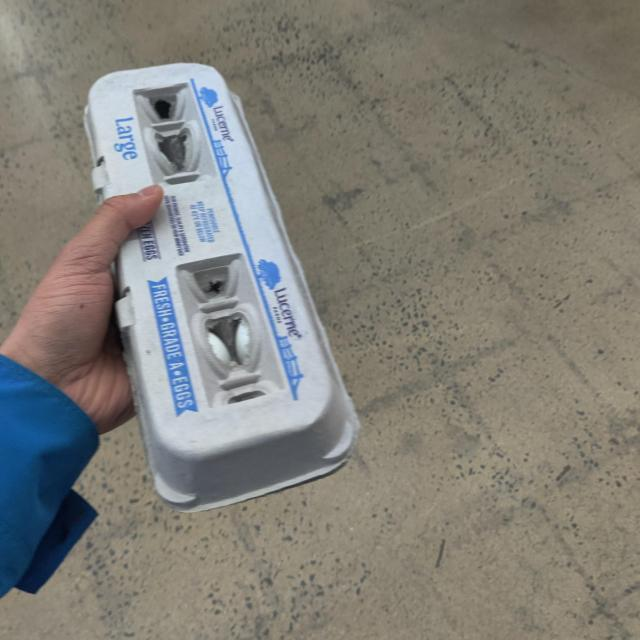Eggs: (86, 66, 362, 514)
